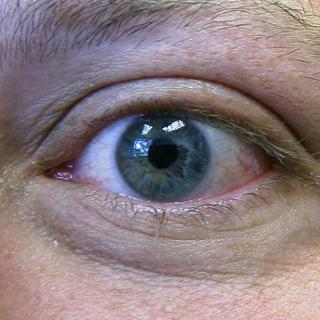pupil: (146, 137, 178, 169)
